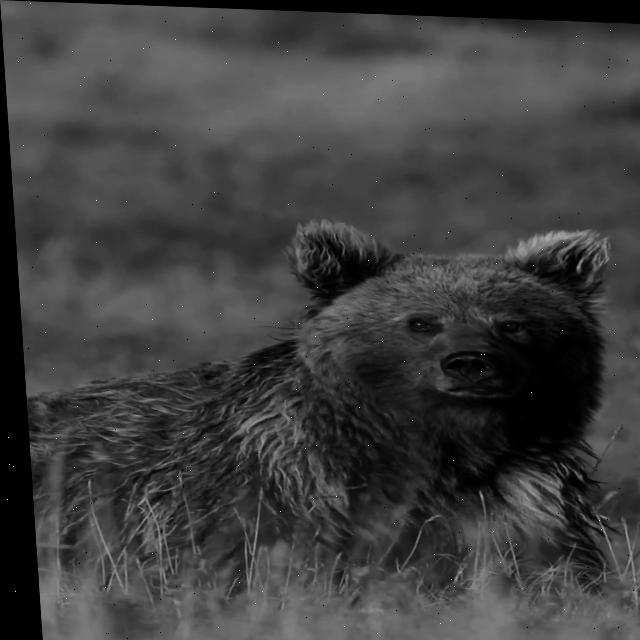Bear: (14, 206, 635, 622)
